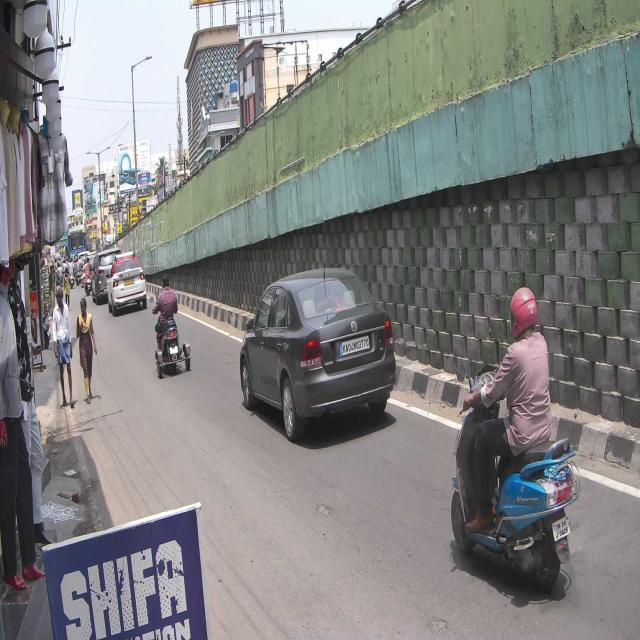single_rider: (449, 286, 581, 602)
